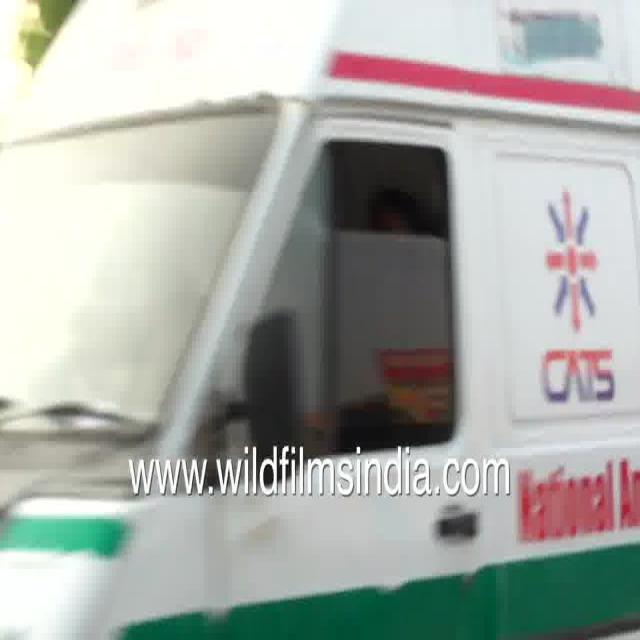ambulance: (1, 6, 640, 430)
